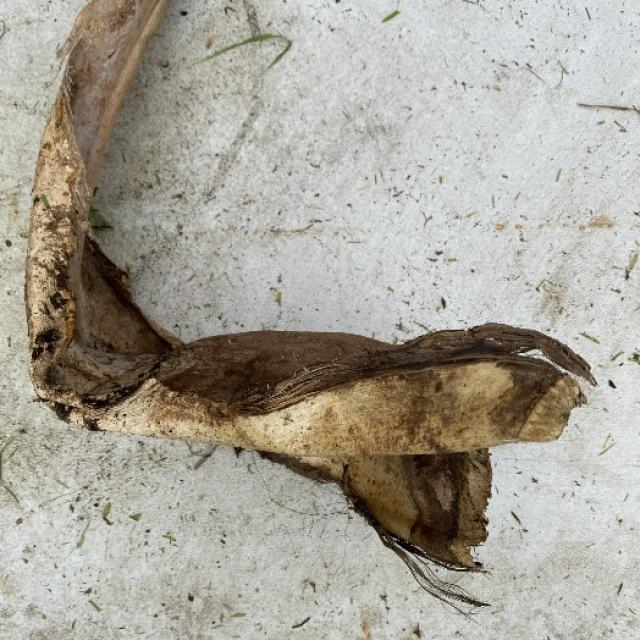organic: (396, 362, 549, 445), (77, 386, 212, 445), (32, 114, 82, 226)
